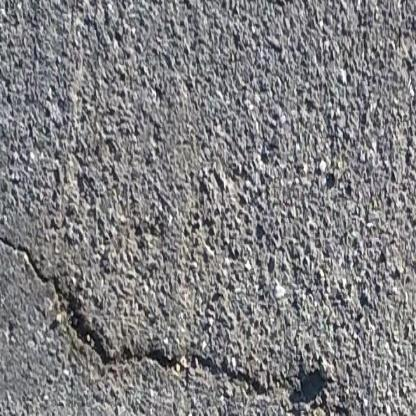Cracks: (0, 222, 369, 416)
